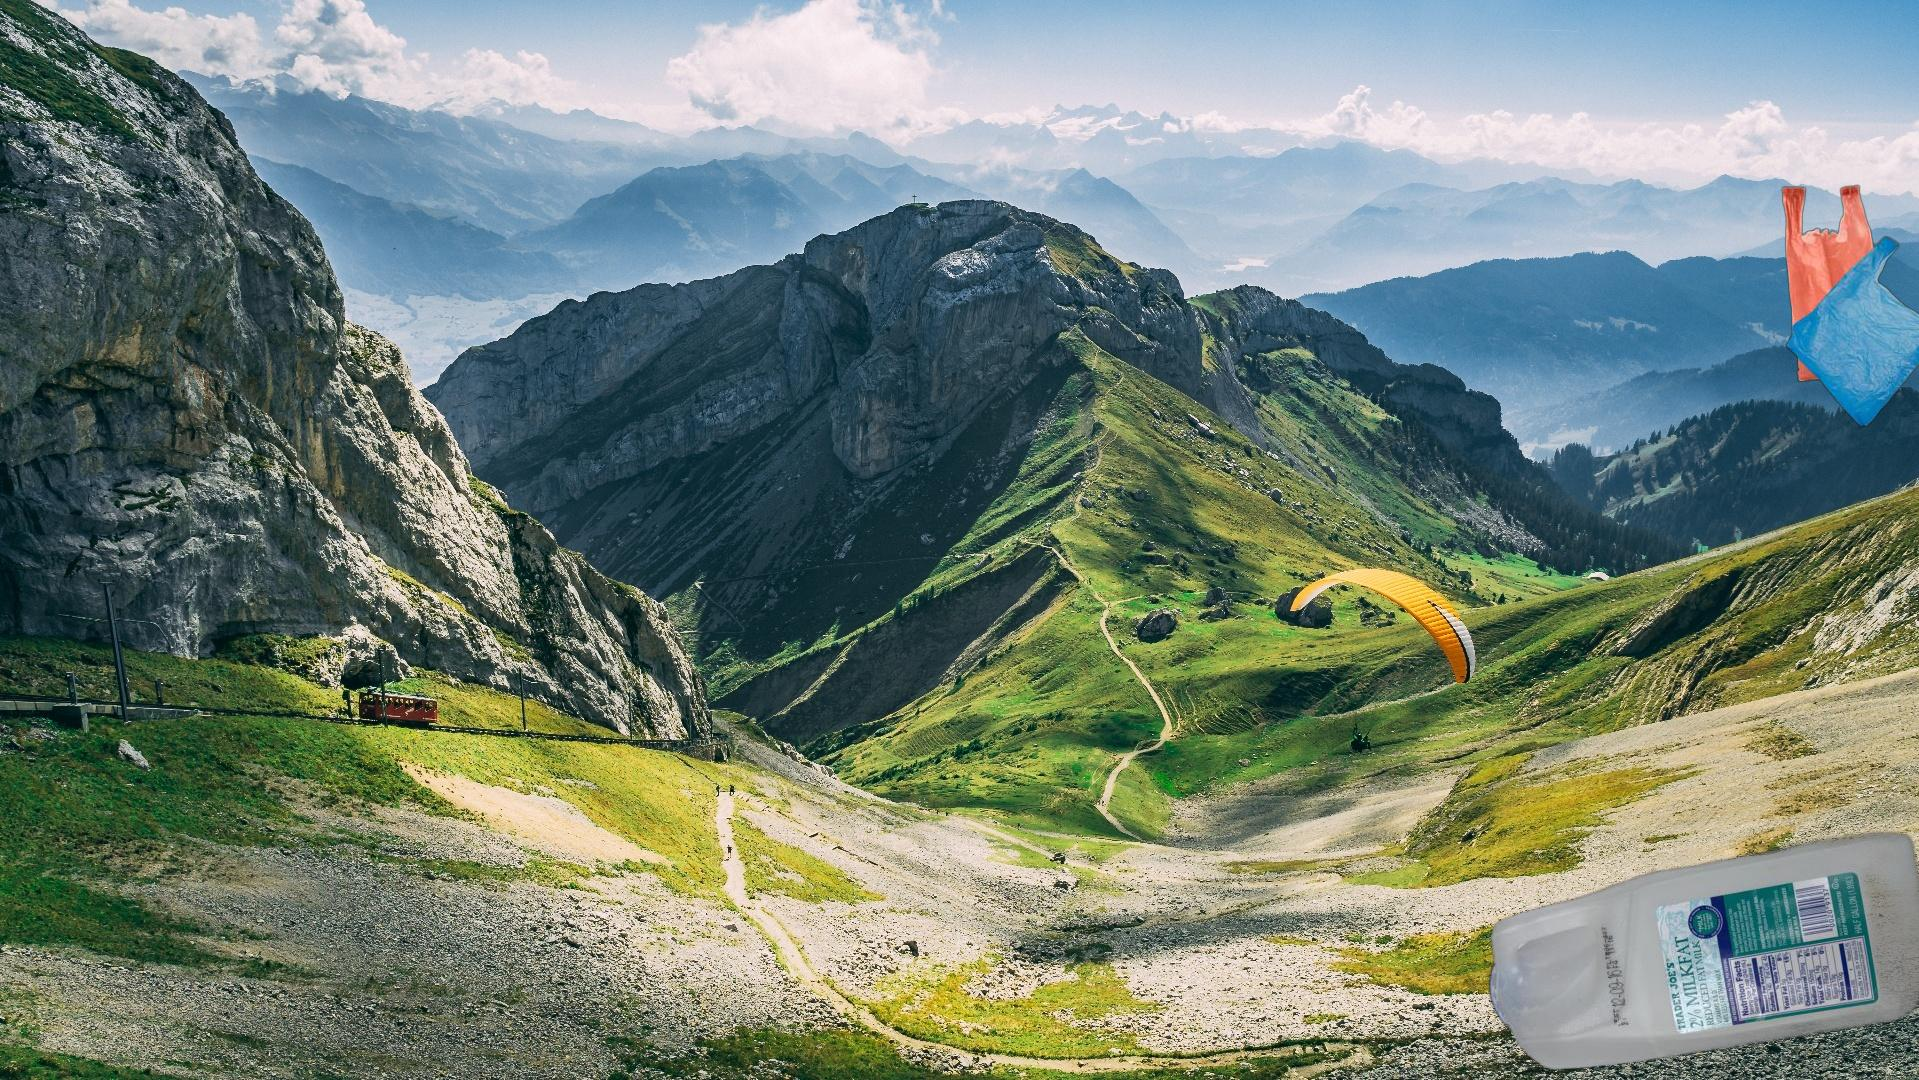plastic-bag: (1779, 182, 1919, 430)
plastic-bottles: (1472, 761, 1919, 1073)
